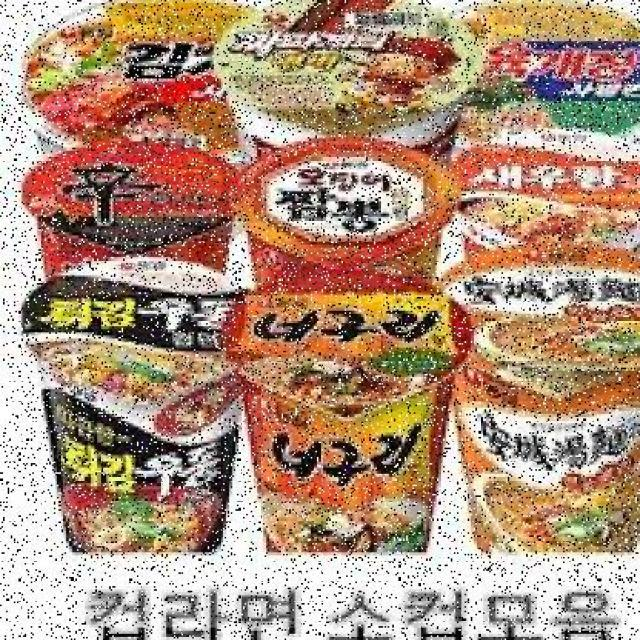Miscellaneous: (230, 260, 466, 568), (31, 256, 260, 562), (457, 244, 640, 558), (216, 0, 481, 160), (20, 140, 248, 322), (18, 0, 254, 169), (243, 123, 454, 279), (432, 0, 640, 145), (444, 121, 640, 266)
